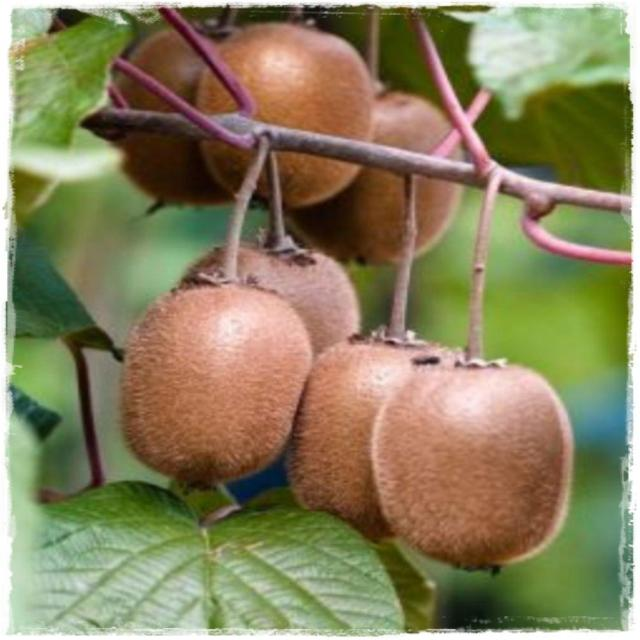kiwi: (370, 355, 595, 576), (110, 283, 312, 490), (193, 15, 387, 205), (286, 333, 455, 542), (110, 22, 247, 219), (180, 235, 374, 371), (343, 81, 478, 266)
